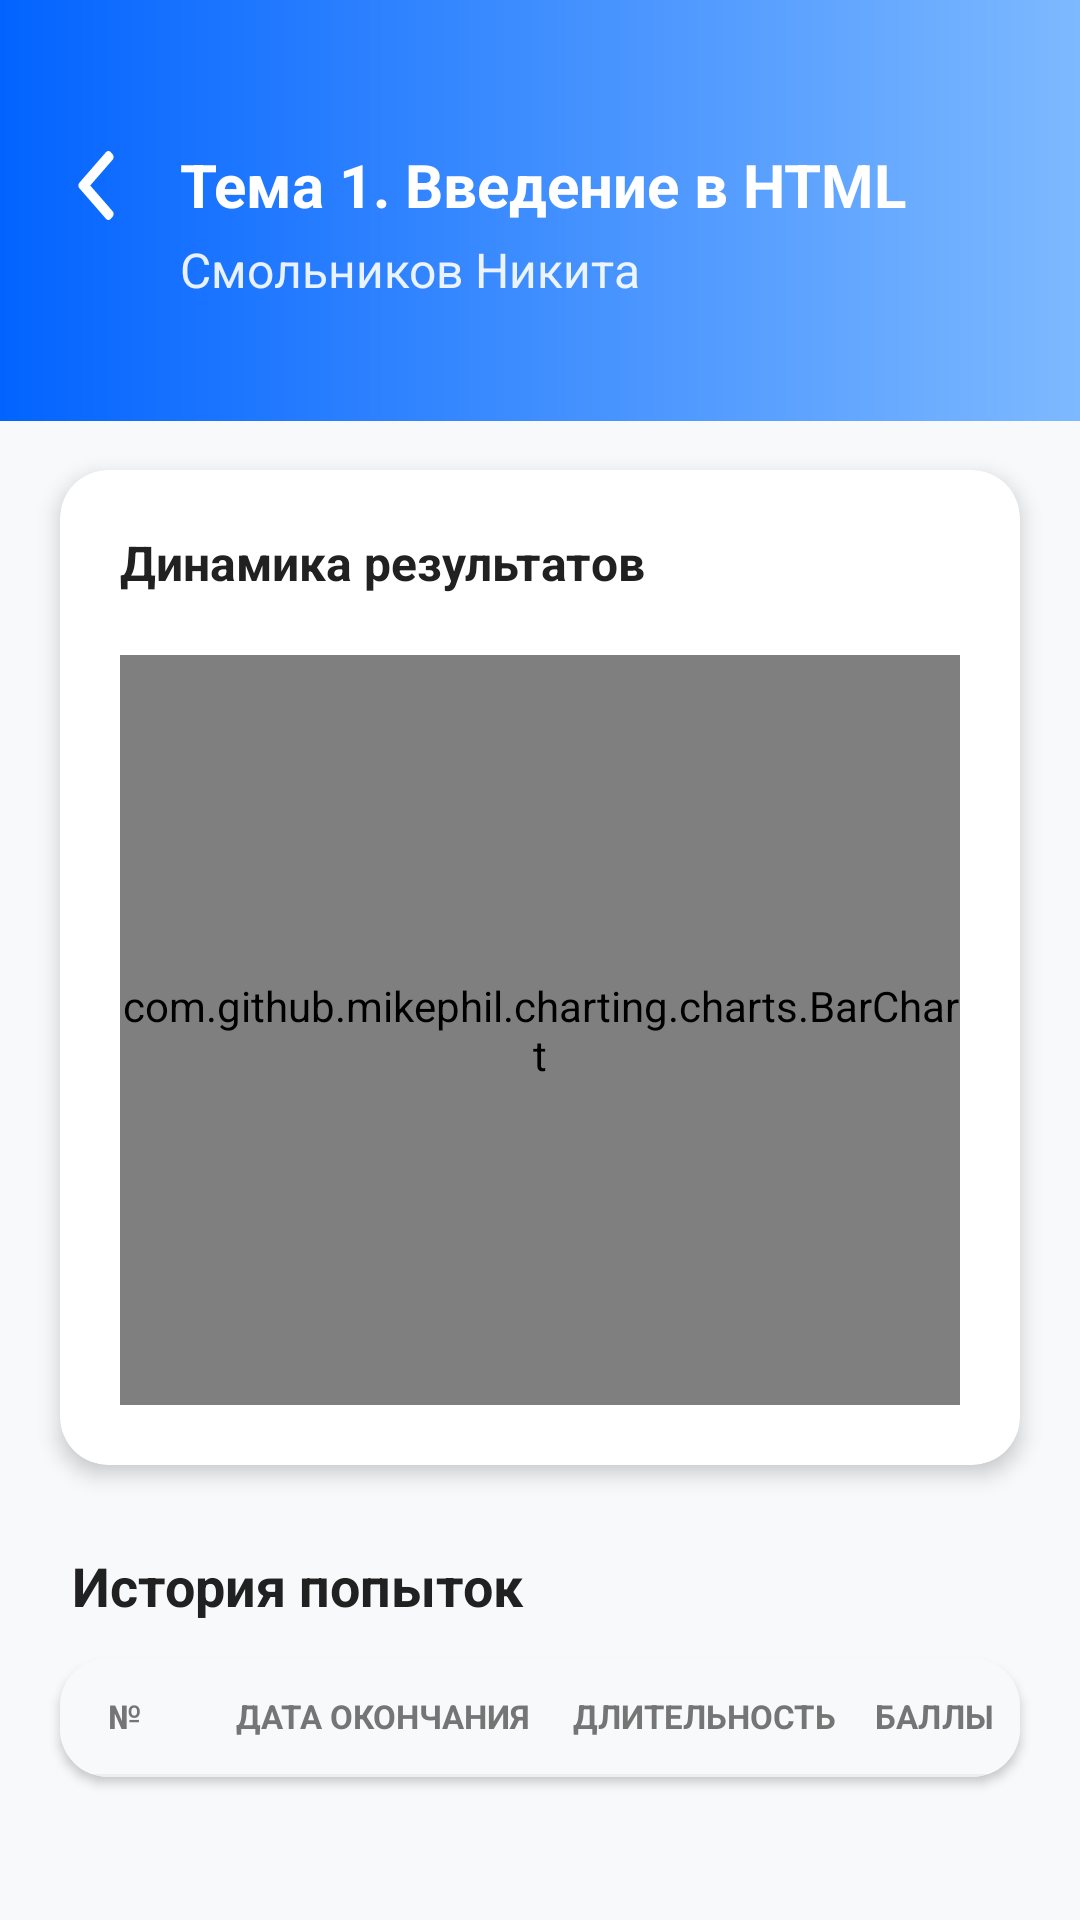

Icon click points for this 1080w x 1920h phone screenshot, format [x,y]:
arrow left: [96,185]
